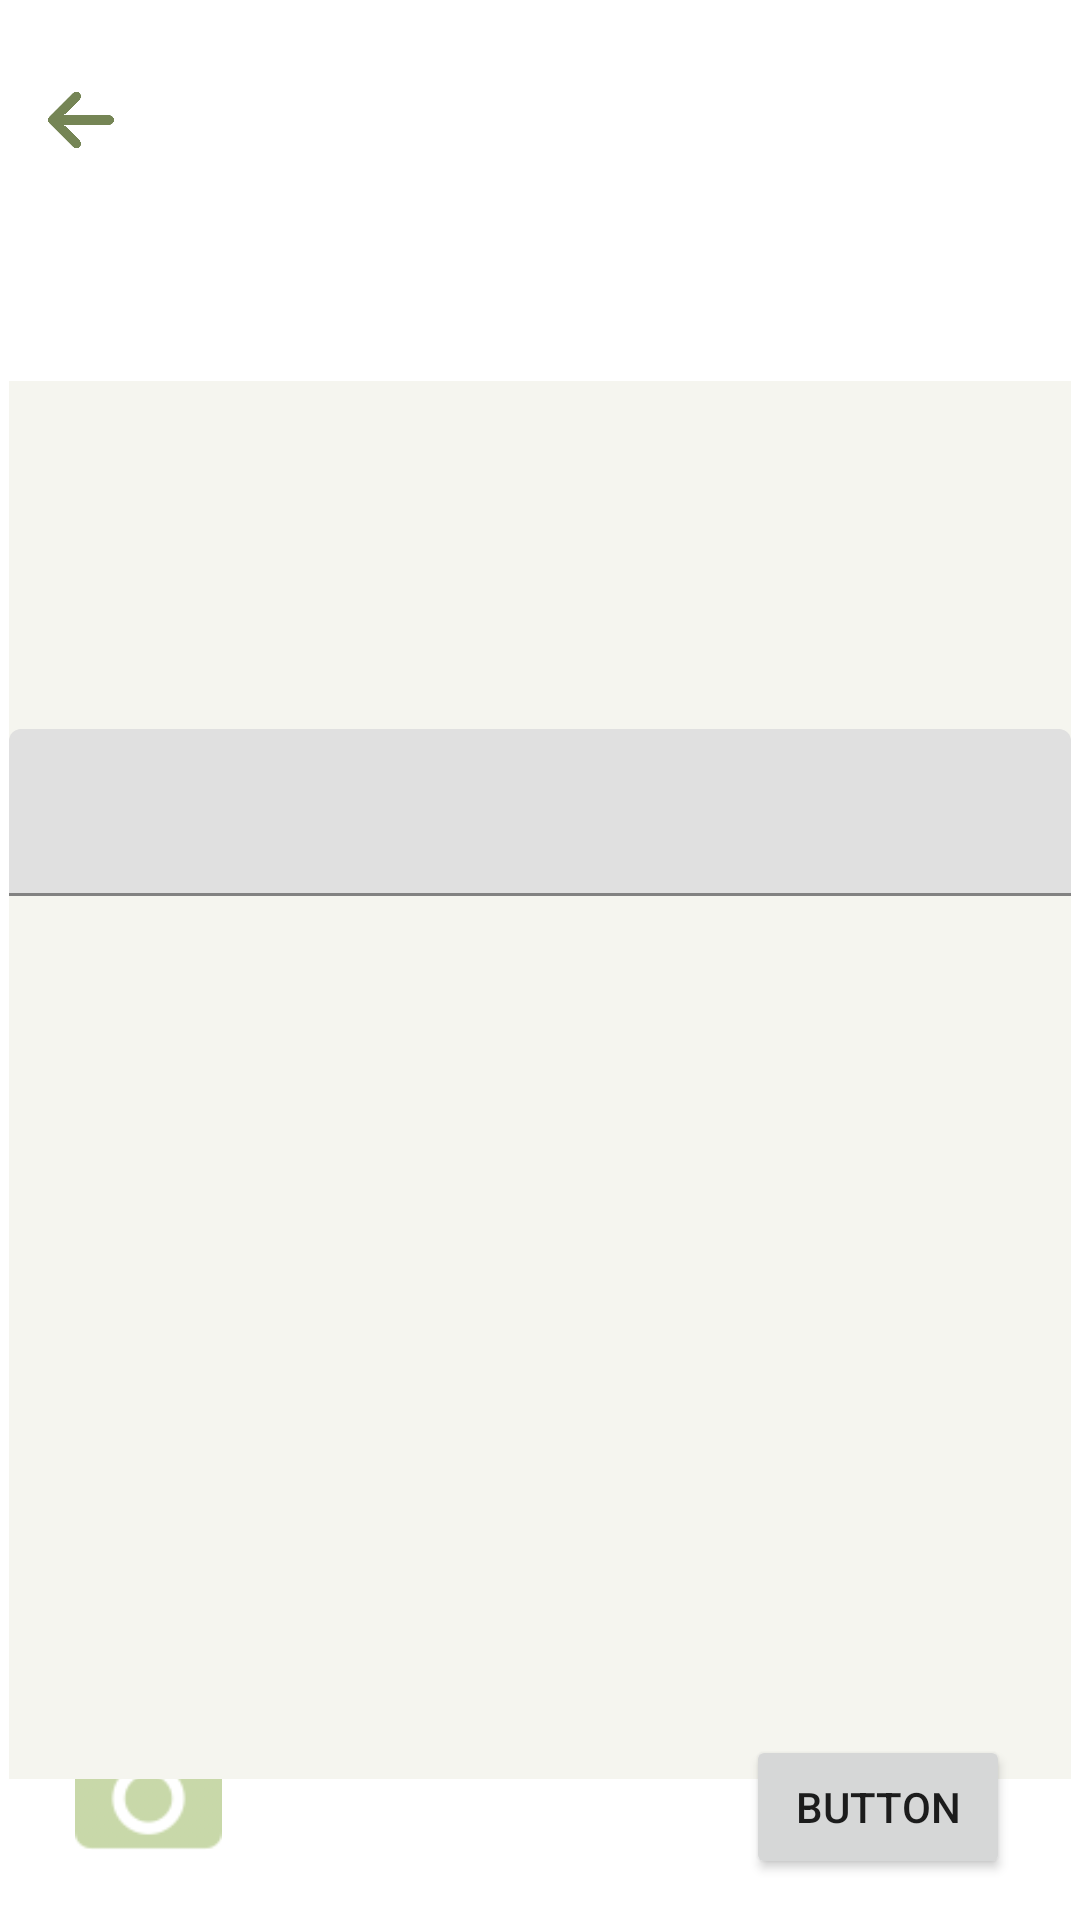

Named icons in this screenshot (1080px×1920px) and their bounding boxes, (x1, y1, x2, y2):
arrow: (48, 92, 114, 148)
